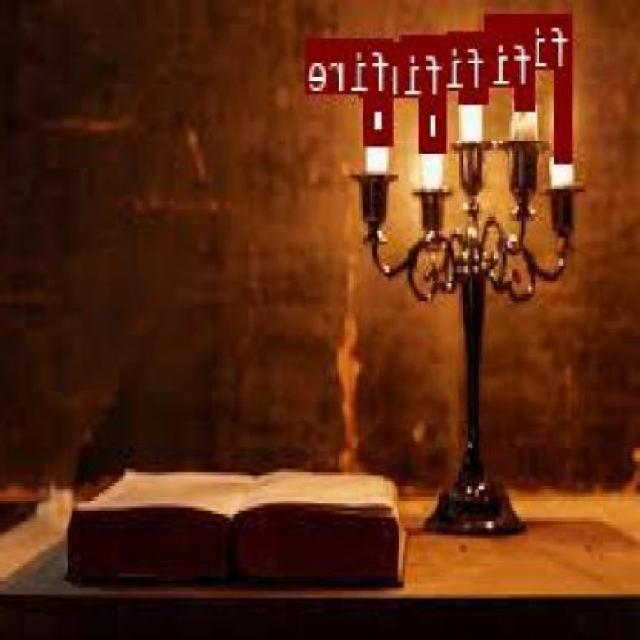fire: (461, 33, 490, 101), (556, 69, 572, 160), (422, 95, 448, 148), (518, 30, 536, 106), (366, 94, 394, 142)
